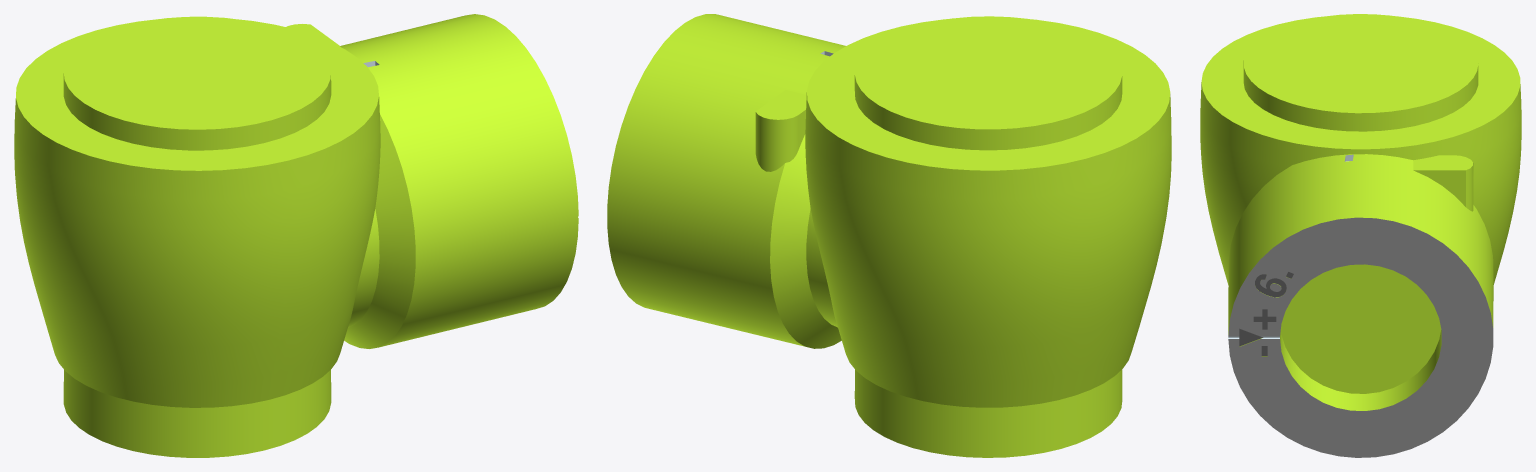
The model's file is kuka_6.obj.
The picture shows the model from 3 angles, left to right: view 1: azimuth 30°, elevation 25°; view 2: azimuth 150°, elevation 25°; view 3: azimuth 270°, elevation 25°; orthographic projection. The views are drawn at different scales.
Visible parts, largest first — view 1: 实体1; view 2: 实体1; view 3: 实体1.
Part boxes in pixels (x1,y1,x2,y2): 实体1: (14, 14, 578, 457); 实体1: (607, 14, 1171, 457); 实体1: (1200, 14, 1521, 457).
Size of the model in its own units: 116 by 78.5 by 79.38.
